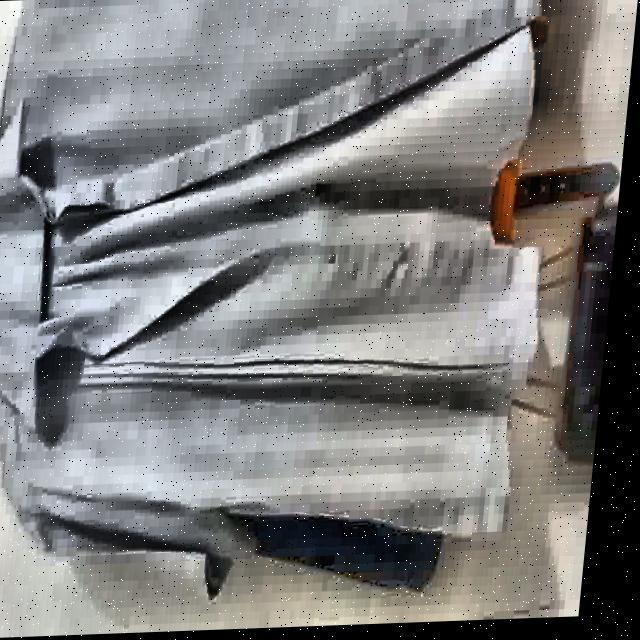clothes: (0, 0, 584, 603)
